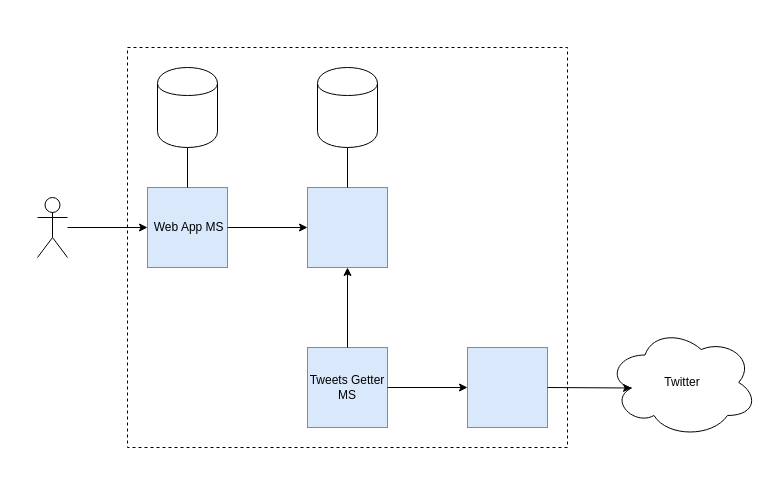
Image size: 784x484. Some labels were removed from this diagram. Each missing label, with the centre of its shape:
Tweets MS: (347,227)
Twitter Client MS: (507,387)
